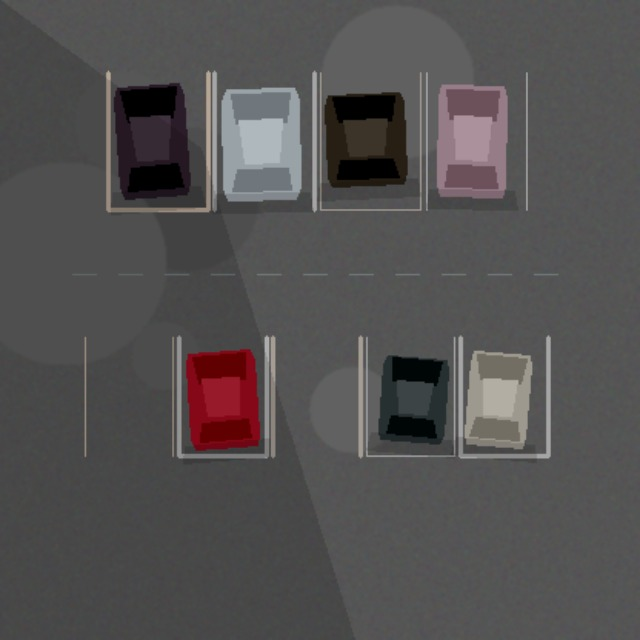space-empty: (272, 337, 360, 455), (85, 337, 172, 455)
space-occupied: (108, 72, 208, 209), (214, 72, 314, 209), (320, 72, 420, 209), (426, 72, 526, 209), (178, 337, 266, 455), (366, 337, 454, 455), (460, 337, 548, 455)
